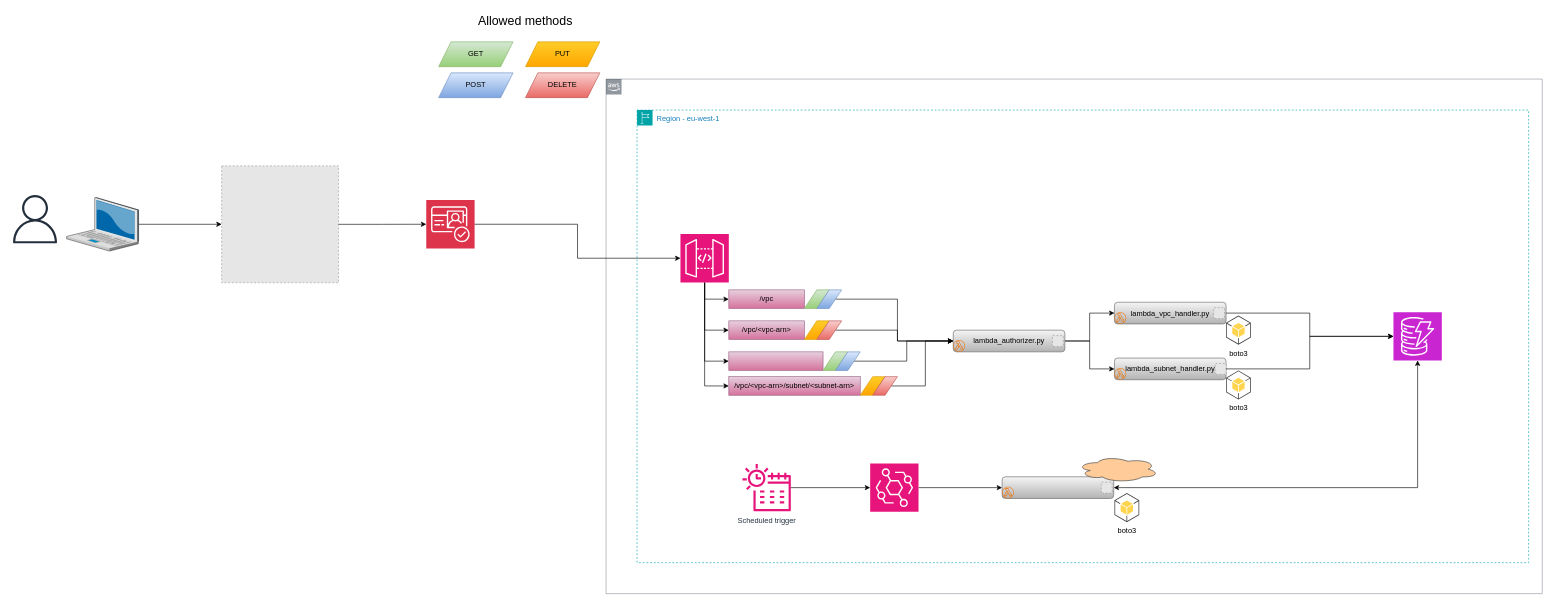
Image size: 1553x605. Some labels were removed from this diagram. Grey dashed boxes stand in for pictures. Here are the shapes that lost their labels. From the top down, the box of each, then its label:
(680, 233, 729, 282): API Gateway
(605, 78, 1542, 594): AWS Cloud
(1393, 312, 1442, 361): DynamoDB
(728, 351, 823, 370): /vpc/<vpc-arn>/subnet
(870, 463, 919, 512): EventBus
(1001, 476, 1114, 498): lambda_drift_detector
(1077, 456, 1158, 482): Sanity checker
